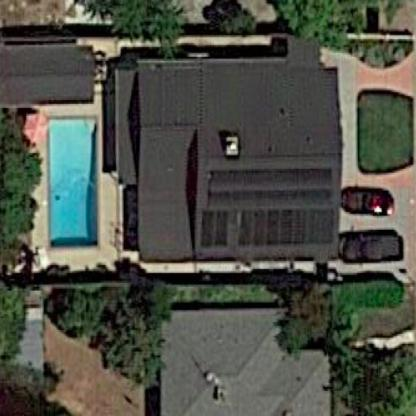car: (344, 176, 397, 224), (338, 228, 402, 265)
solar_panel: (197, 207, 337, 250), (201, 165, 336, 207)
swimming_pool: (40, 104, 110, 257)
